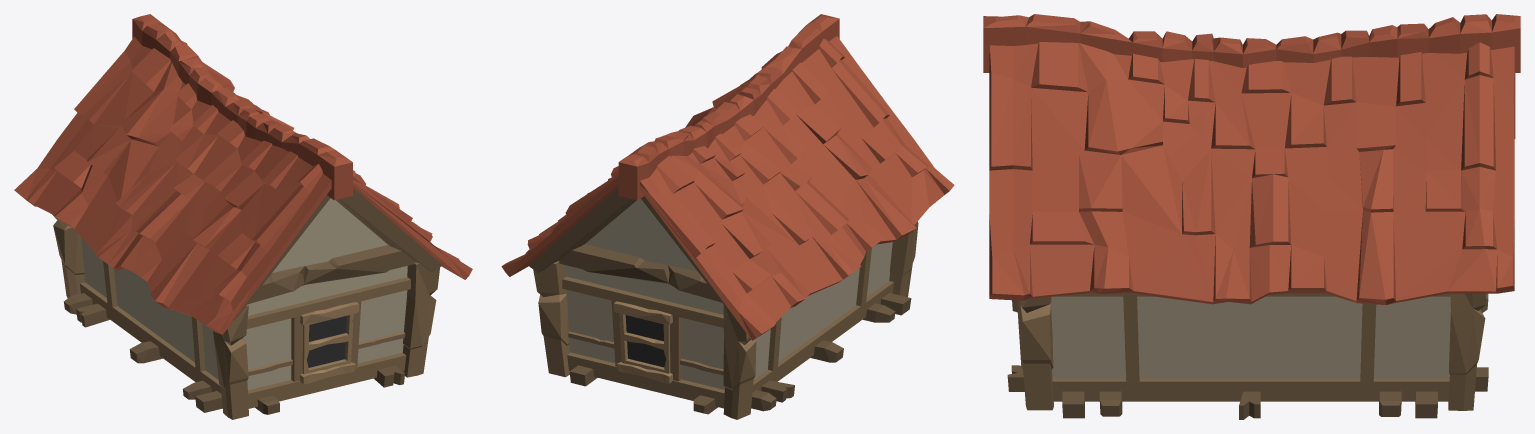
Rendered from SM_Bld_House_RoomTop_06.gltf.
The picture shows the model from 3 angles, left to right: view 1: azimuth 30°, elevation 25°; view 2: azimuth 150°, elevation 25°; view 3: azimuth 270°, elevation 25°; orthographic projection. The views are drawn at different scales.
Visible parts, largest first — view 1: SM_Bld_House_RoomTop_06; view 2: SM_Bld_House_RoomTop_06; view 3: SM_Bld_House_RoomTop_06.
Boxes of the visible parts, x1,y1,x2,y2 form: SM_Bld_House_RoomTop_06: [14, 14, 472, 419]; SM_Bld_House_RoomTop_06: [501, 14, 954, 419]; SM_Bld_House_RoomTop_06: [983, 14, 1520, 419].
Bounding box in the file's own units: 5.43 × 4.65 × 6.86.
Materials: 1 (1 with a texture image).
